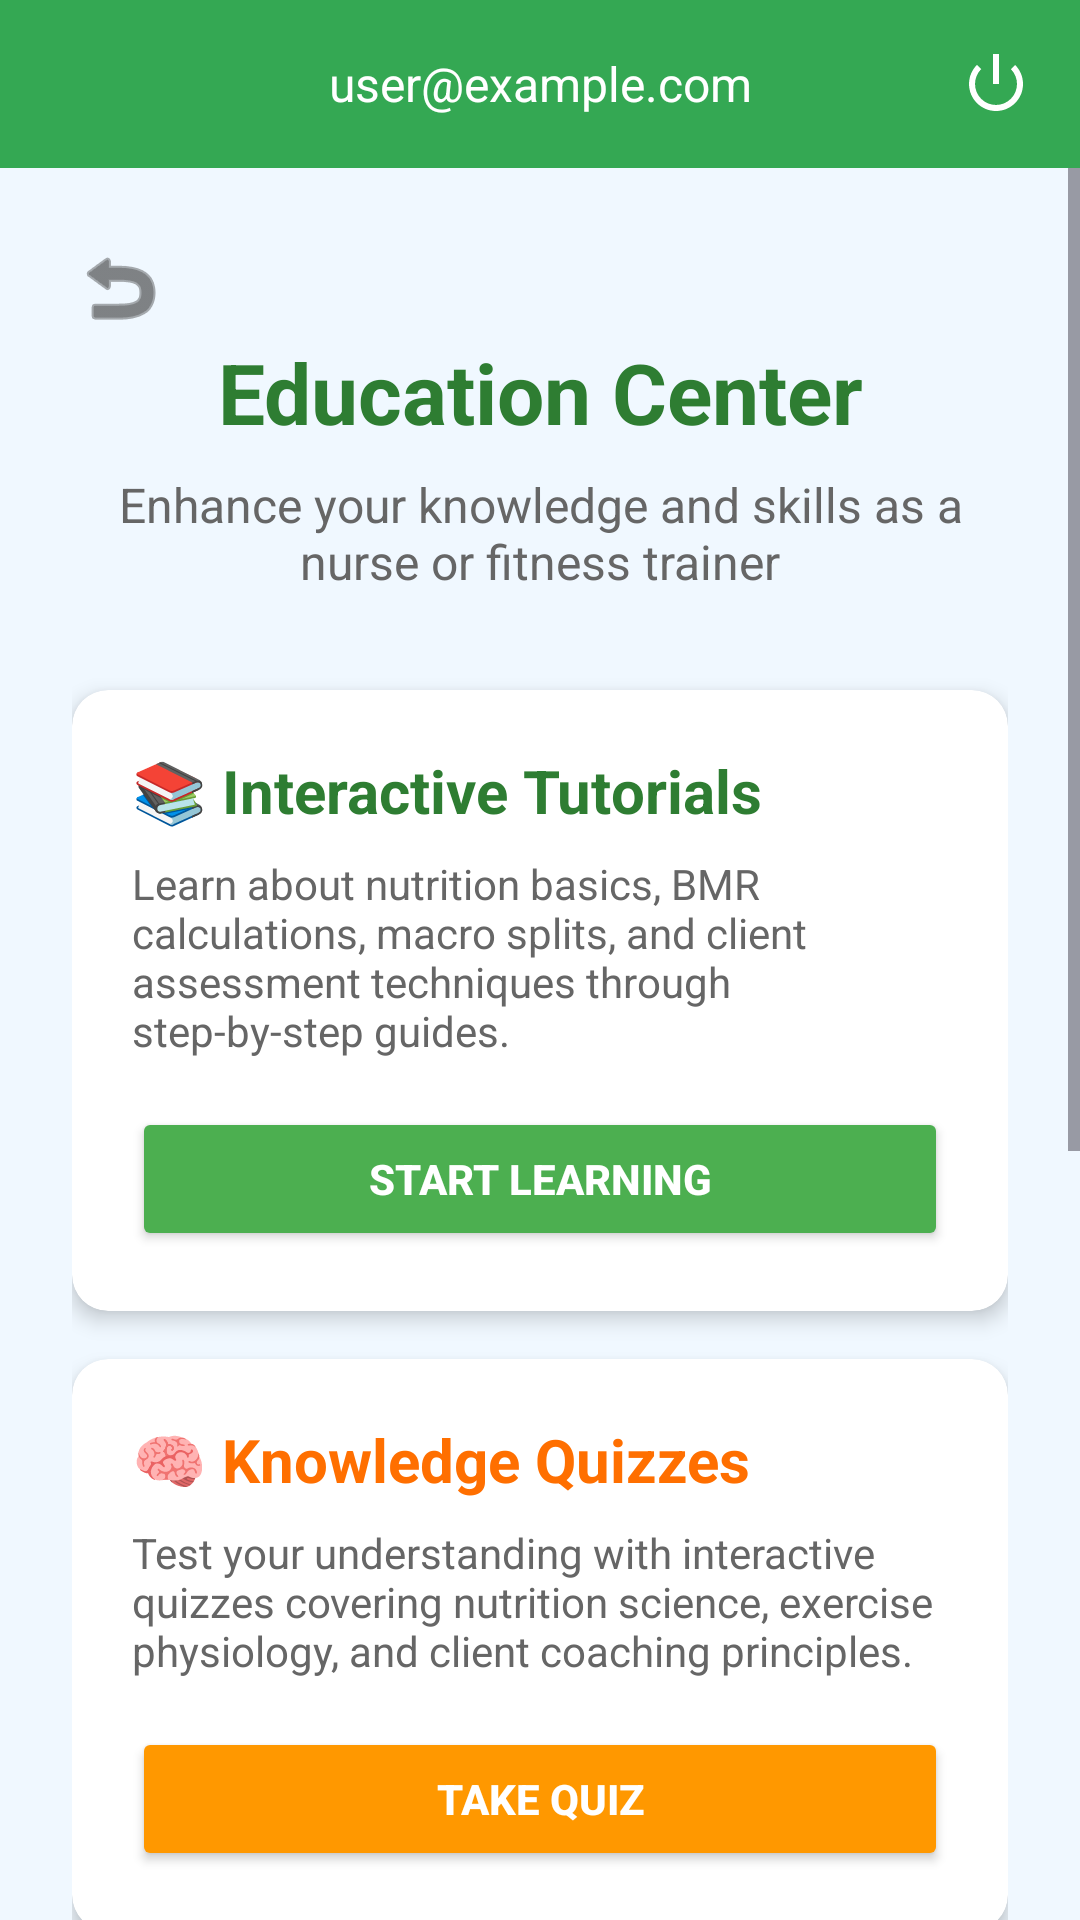

Icon click points for this 1080px×1920px phone screenshot, format (x,y):
Back: (121,288)
